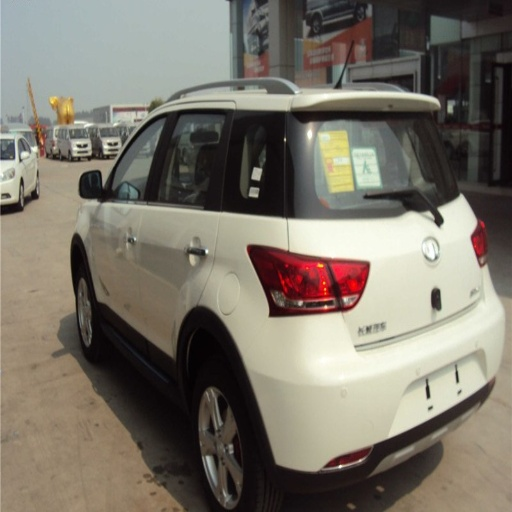back_bumper: (239, 300, 499, 497)
back_glass: (252, 111, 456, 216)
back_left_door: (139, 106, 254, 368)
front_left_door: (92, 111, 176, 335)
trunk: (301, 209, 477, 346)
